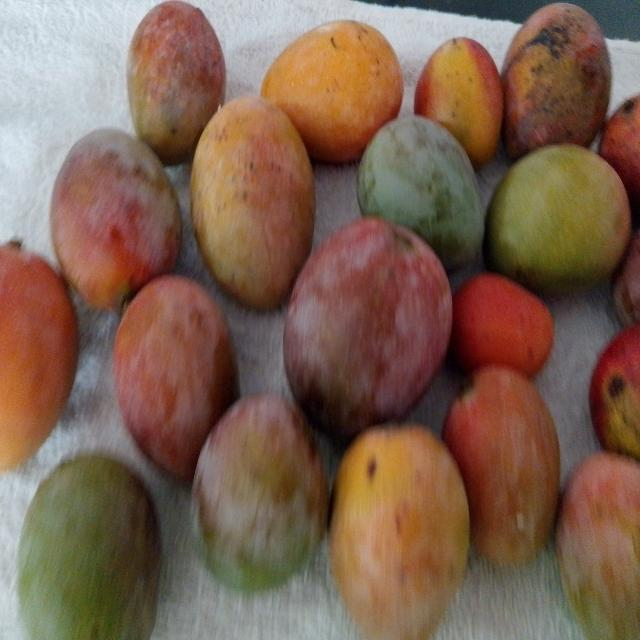mango: (286, 213, 454, 429), (329, 423, 469, 639), (110, 268, 242, 473), (193, 393, 328, 591), (191, 96, 315, 309), (18, 455, 160, 639), (443, 359, 559, 575), (46, 129, 183, 311), (485, 145, 630, 293), (261, 20, 403, 162), (0, 224, 80, 473), (357, 116, 484, 270), (123, 0, 228, 164), (502, 3, 611, 158), (414, 38, 503, 168)
